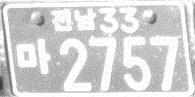2: (58, 37, 94, 93)
3: (97, 6, 119, 33), (119, 6, 140, 33)
5: (121, 35, 151, 91)
7: (149, 34, 180, 93), (87, 35, 118, 92)
마: (15, 38, 51, 76)
전남_O: (50, 7, 97, 32)
